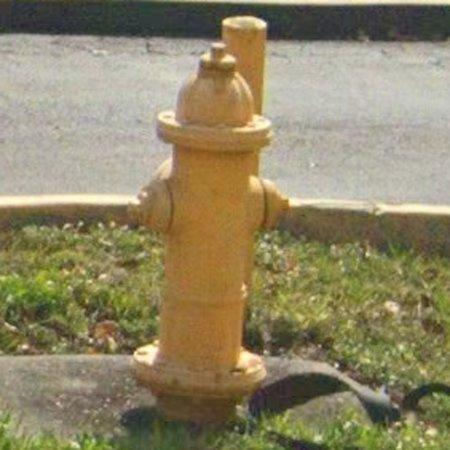a fire hydrant: (135, 16, 289, 402)
